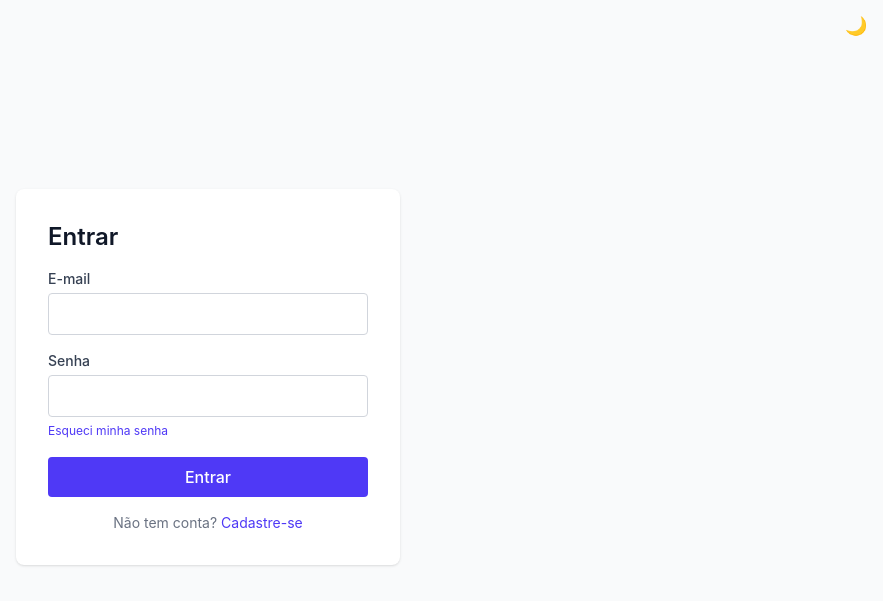
LoginPage › mostra erro do servidor quando o login falha
Step 1. Type "ana@example.com" into the field labelled "E-mail" → (208, 314), box [48,293,368,335]
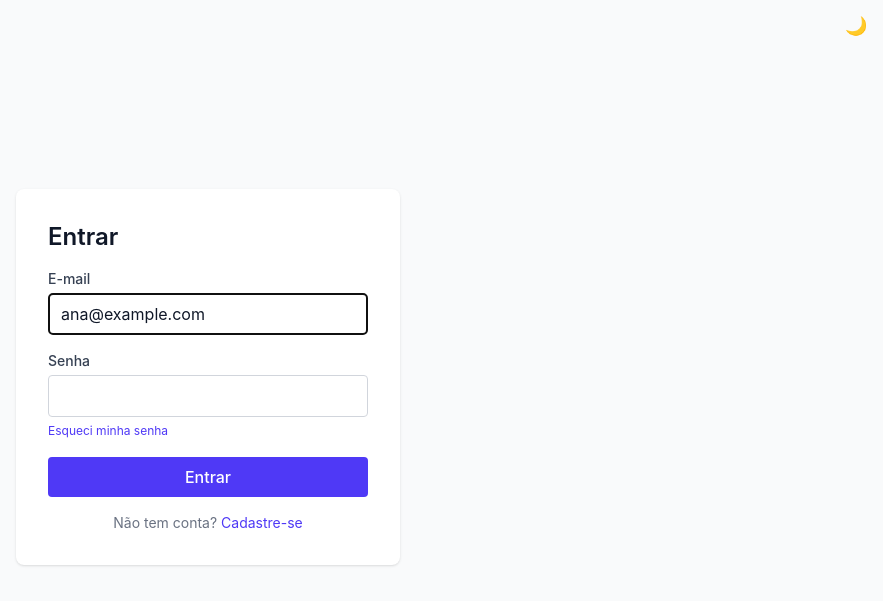
Step 2. Type "senha1234" into the password field labelled "Senha" → (208, 396), box [48,375,368,417]
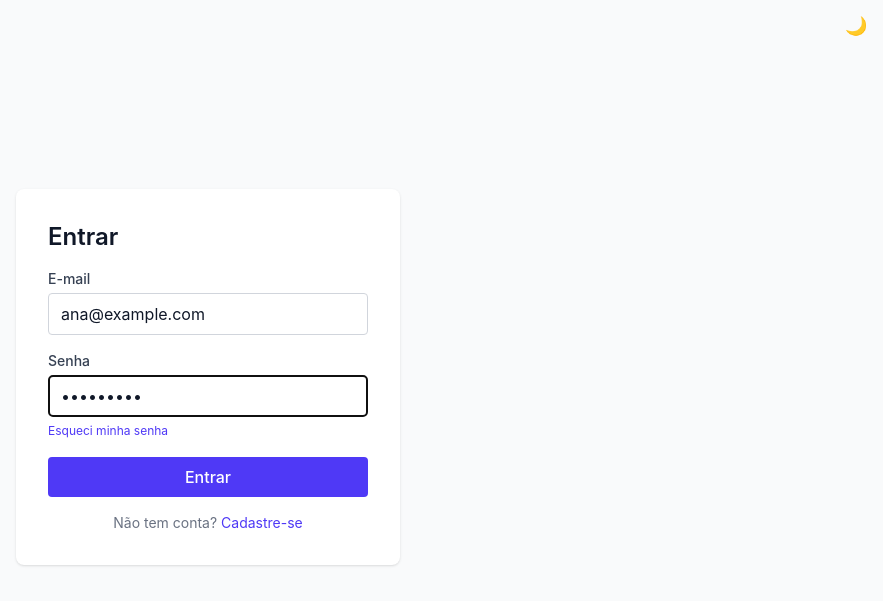
Step 3. Click the button "Entrar" → (208, 477), box [48,457,368,497]
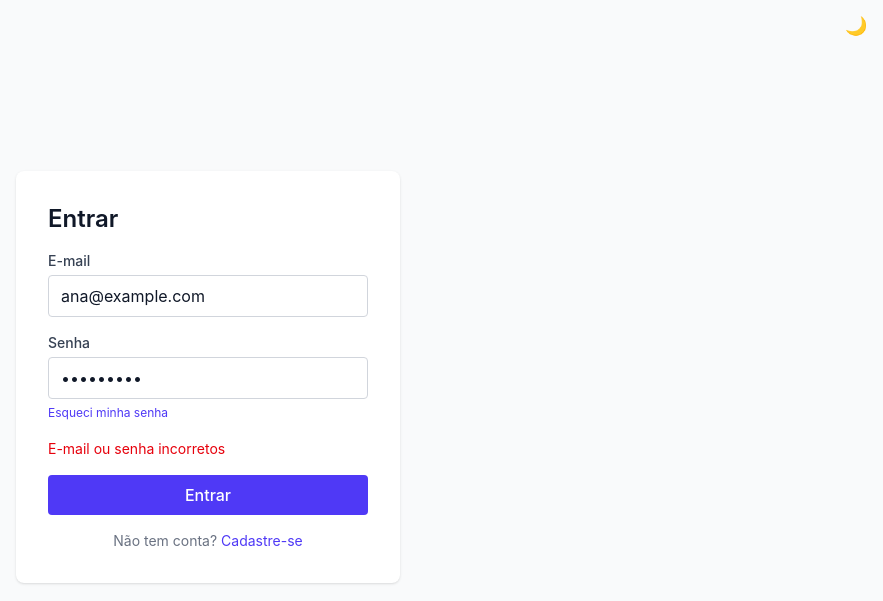
Now the text "E-mail ou senha incorretos" is shown, box [48,440,225,457]
